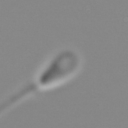normal: (1, 81, 36, 119)
